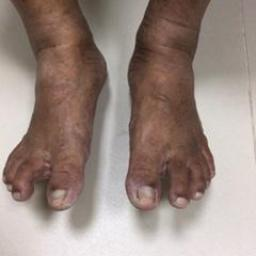Front View -Both Feet-: (2, 14, 223, 220)
